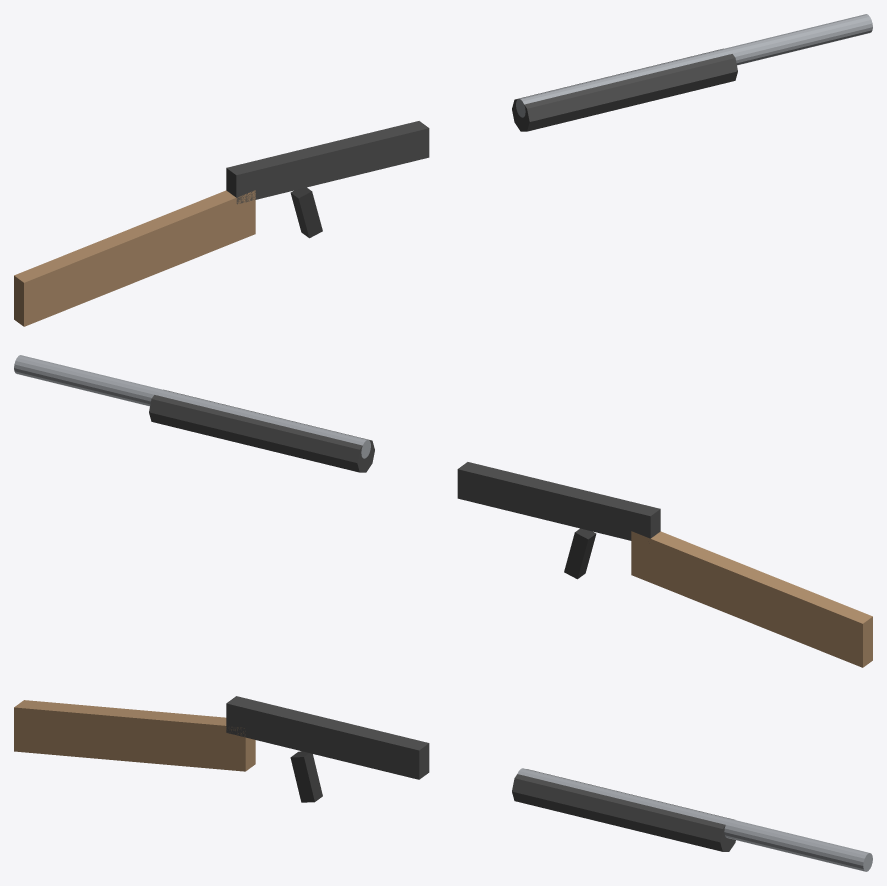
Rendered from rifle_bolt.glb.
The picture shows the model from 3 angles, top to bottom: view 1: azimuth 30°, elevation 25°; view 2: azimuth 150°, elevation 25°; view 3: azimuth 330°, elevation 25°; orthographic projection.
Parts seen in each view (by area): view 1: rifle_bolt; view 2: rifle_bolt; view 3: rifle_bolt.
Part boxes in pixels (<box>): rifle_bolt: <box>14,14,872,326</box>; rifle_bolt: <box>14,355,872,667</box>; rifle_bolt: <box>14,696,872,871</box>.
Size of the model in its own units: 1.21 by 0.138 by 0.044.
